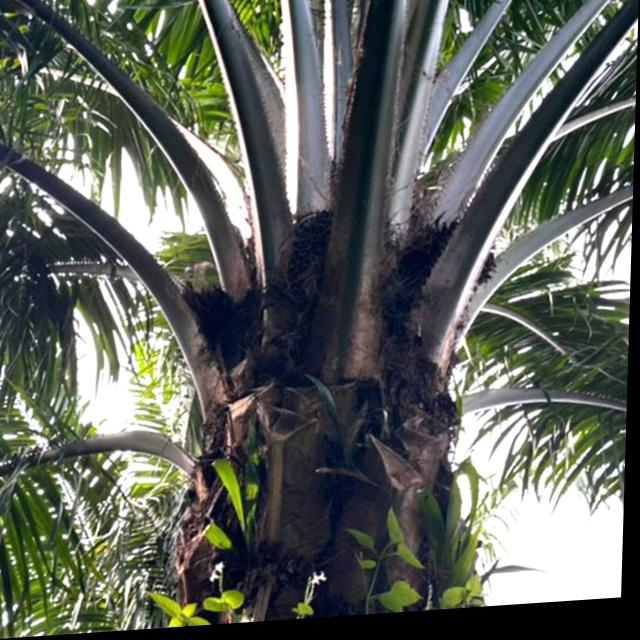unripe: (269, 205, 339, 313)
